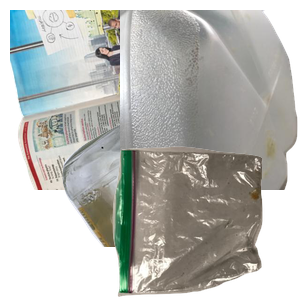glass: (60, 120, 300, 300)
paper: (10, 10, 250, 190)
plastic: (120, 10, 300, 190)
trash: (110, 144, 300, 300)
